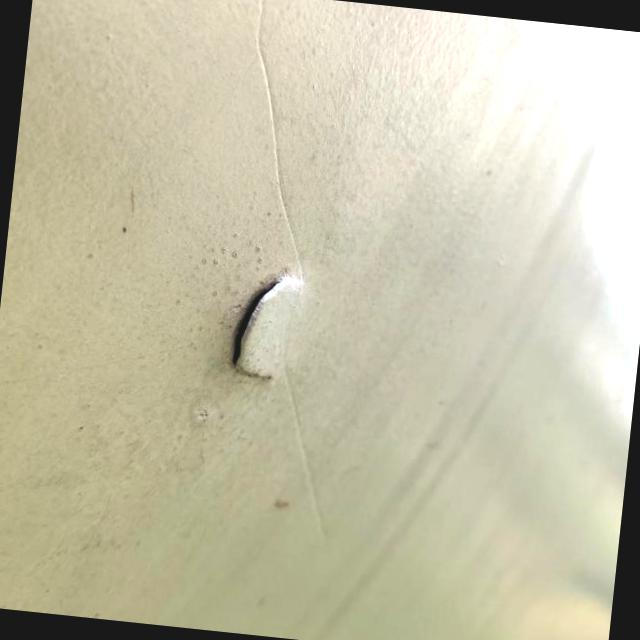crack: (199, 244, 329, 400)
